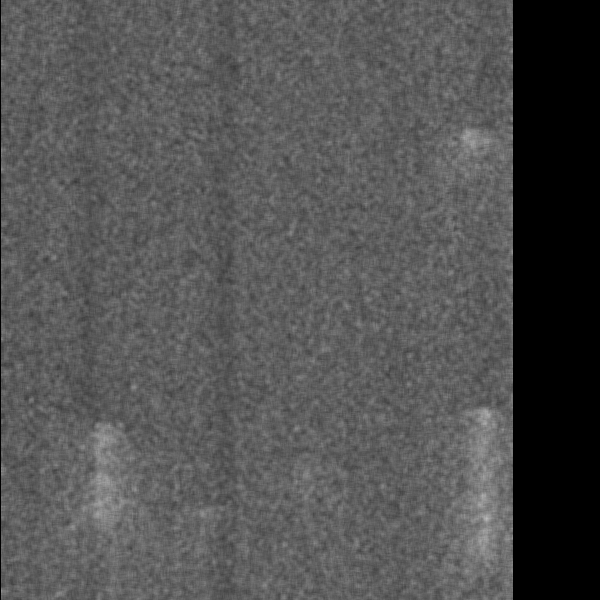spark: (60, 402, 136, 577), (453, 121, 487, 196), (297, 460, 318, 509), (191, 506, 211, 529)
